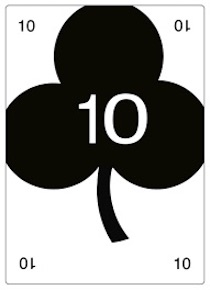TenOfClubs: (3, 2, 204, 285)
